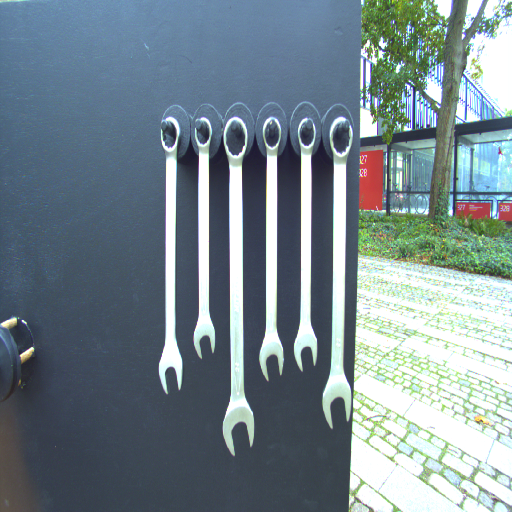bottom: (320, 371, 354, 432), (220, 398, 256, 455), (156, 339, 189, 397), (257, 330, 286, 380), (292, 326, 319, 373), (193, 315, 216, 360)
top: (221, 116, 251, 165), (328, 115, 353, 165), (157, 114, 182, 156), (260, 113, 283, 156), (192, 115, 213, 157), (297, 115, 317, 155)
